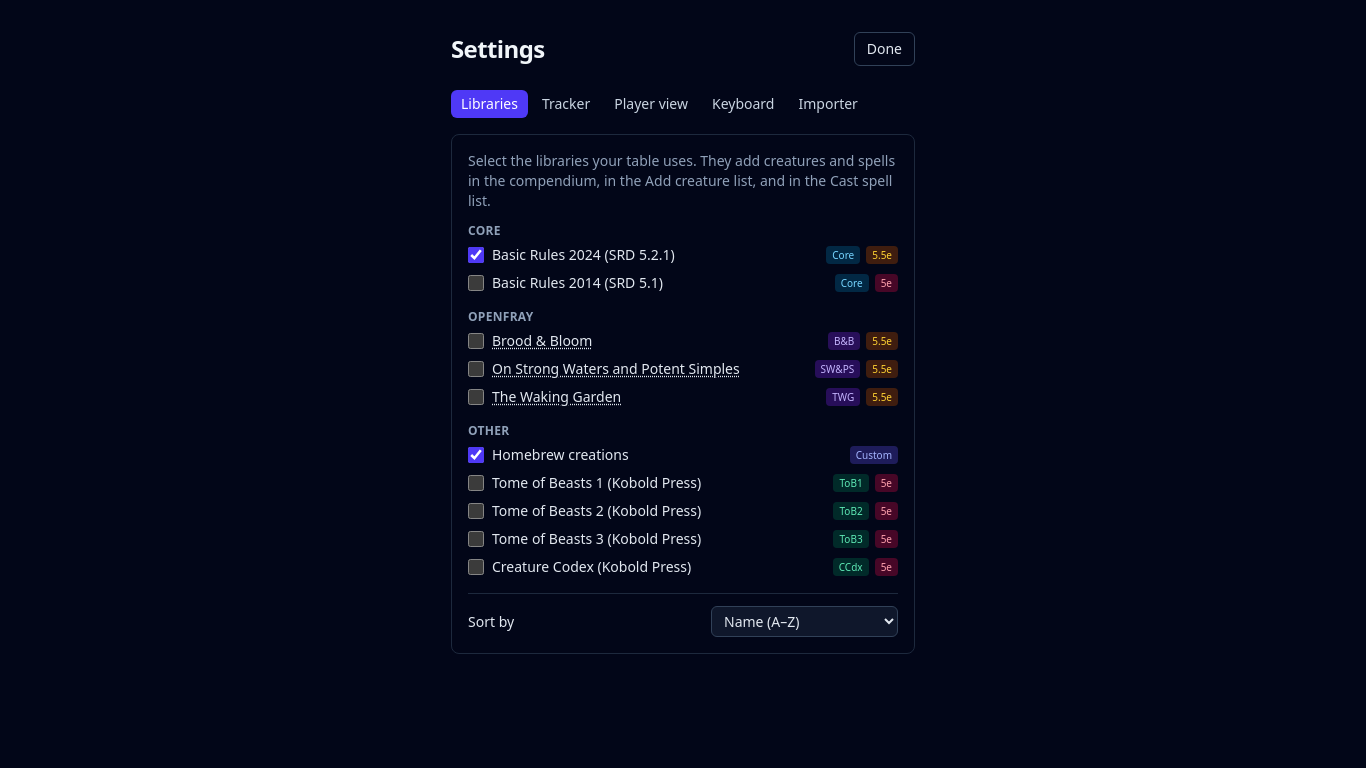
Test: SettingsPanel — the player view › shows a creature`s rolls by default
Click the tab "Player view" at (651, 104), box [604,90,698,118]
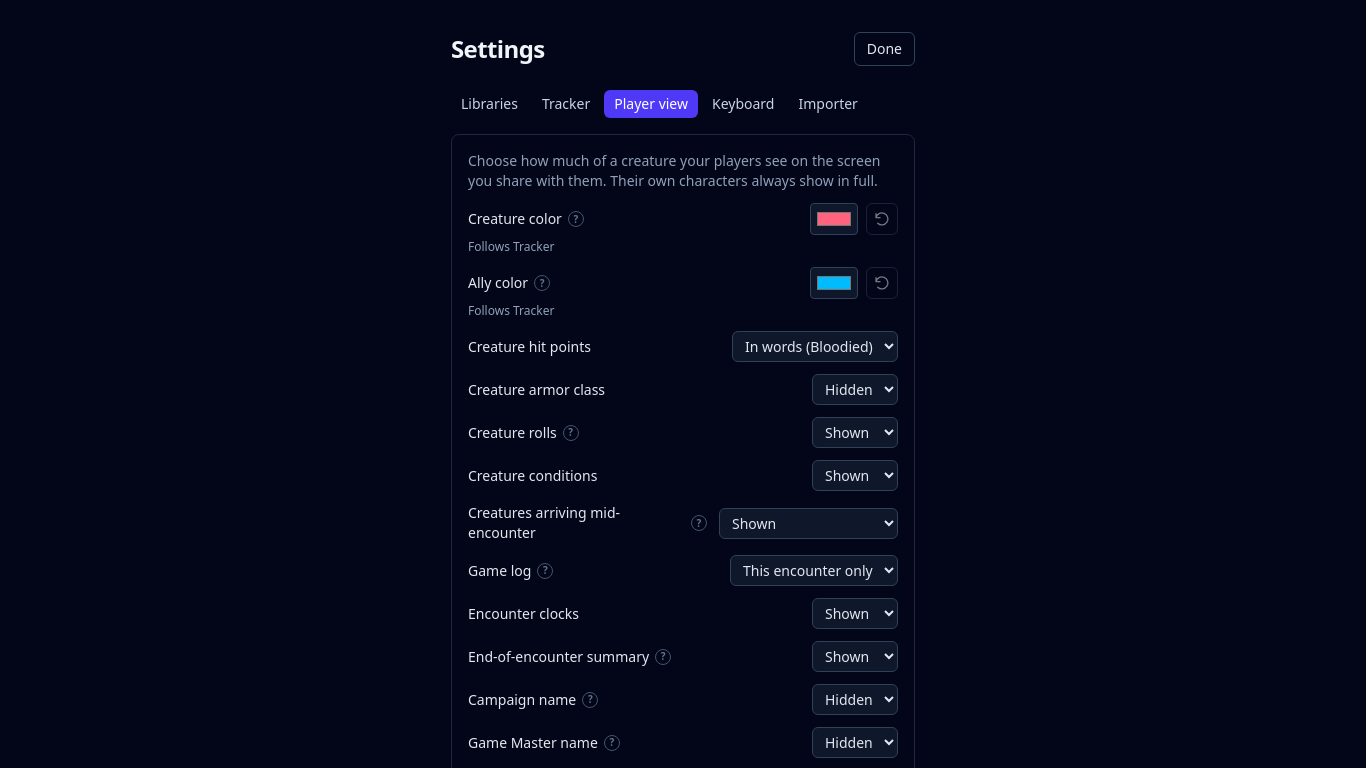
Expected: the dropdown labelled "Creature rolls" shows "Shown", [812,417,898,448]
